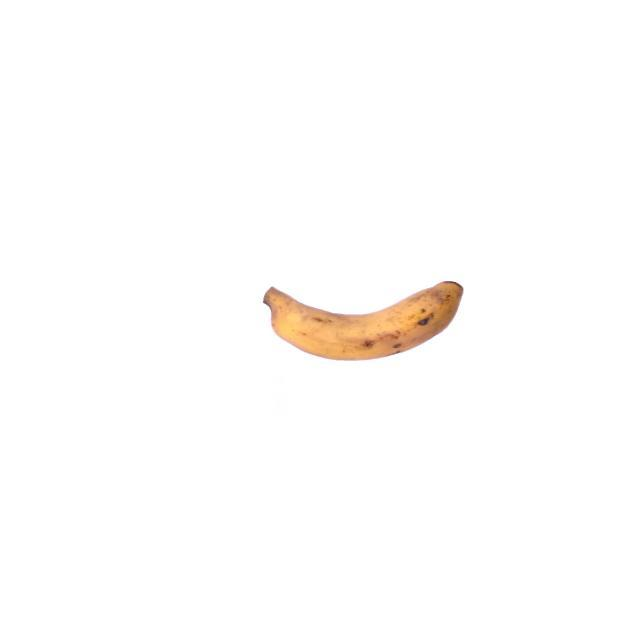banana: (258, 278, 468, 364)
